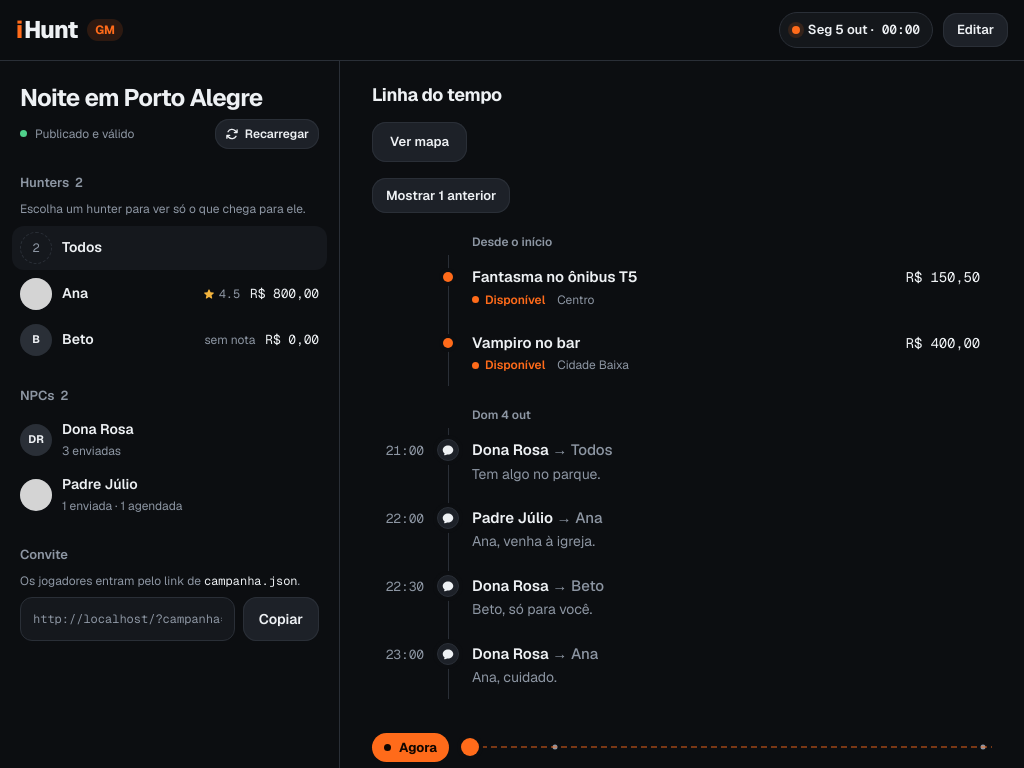
Test: GM view › puts missions and messages on one timeline, with the scheduled ones after Agora
Step 1. Click the button "Mostrar 1 anterior" → (441, 195), box x1=372 y1=178 x2=510 y2=213
(page scrolled)
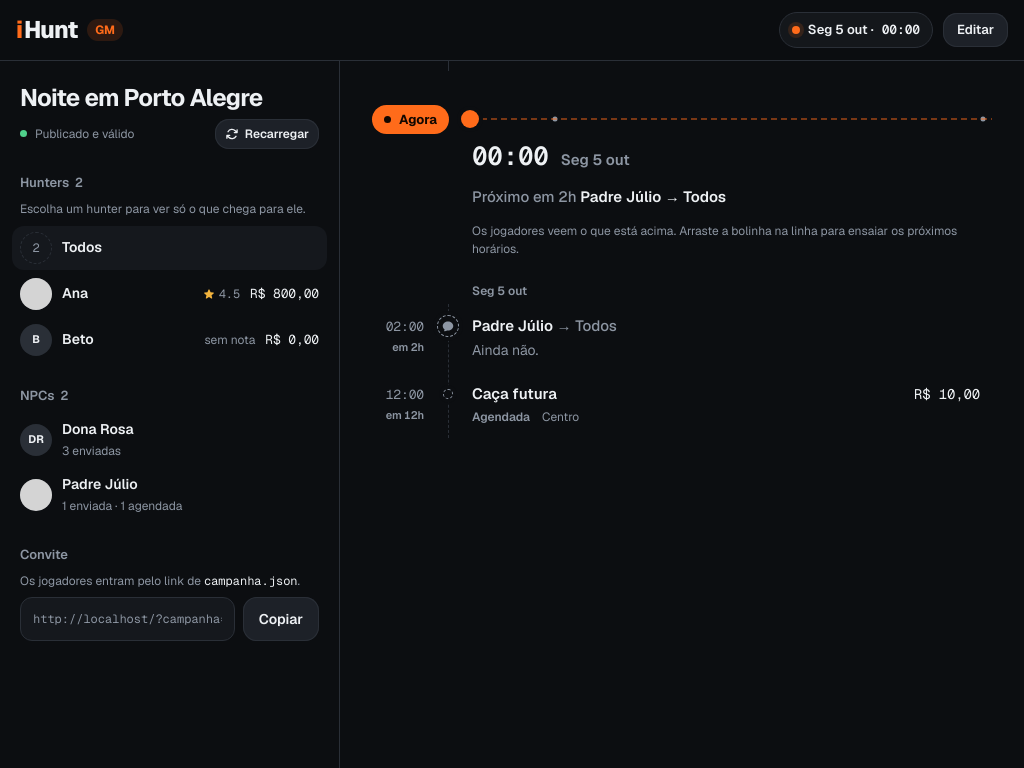
Expected: the text "em 12h" is shown, x1=386 y1=407 x2=424 y2=423
